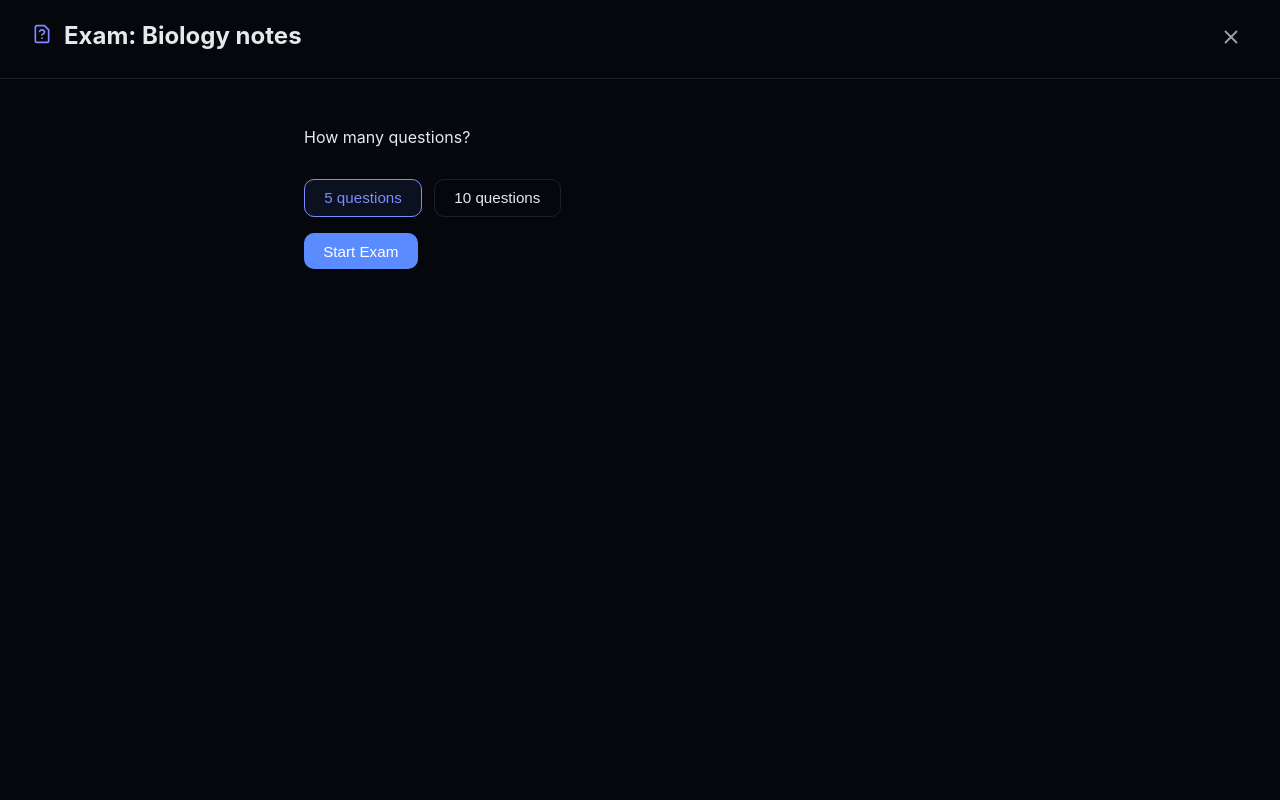
Scenario: ExamModal › renders MCQ options for every question once generated
Step 1. Click the button "Start Exam" → (361, 251), box [304, 233, 418, 269]
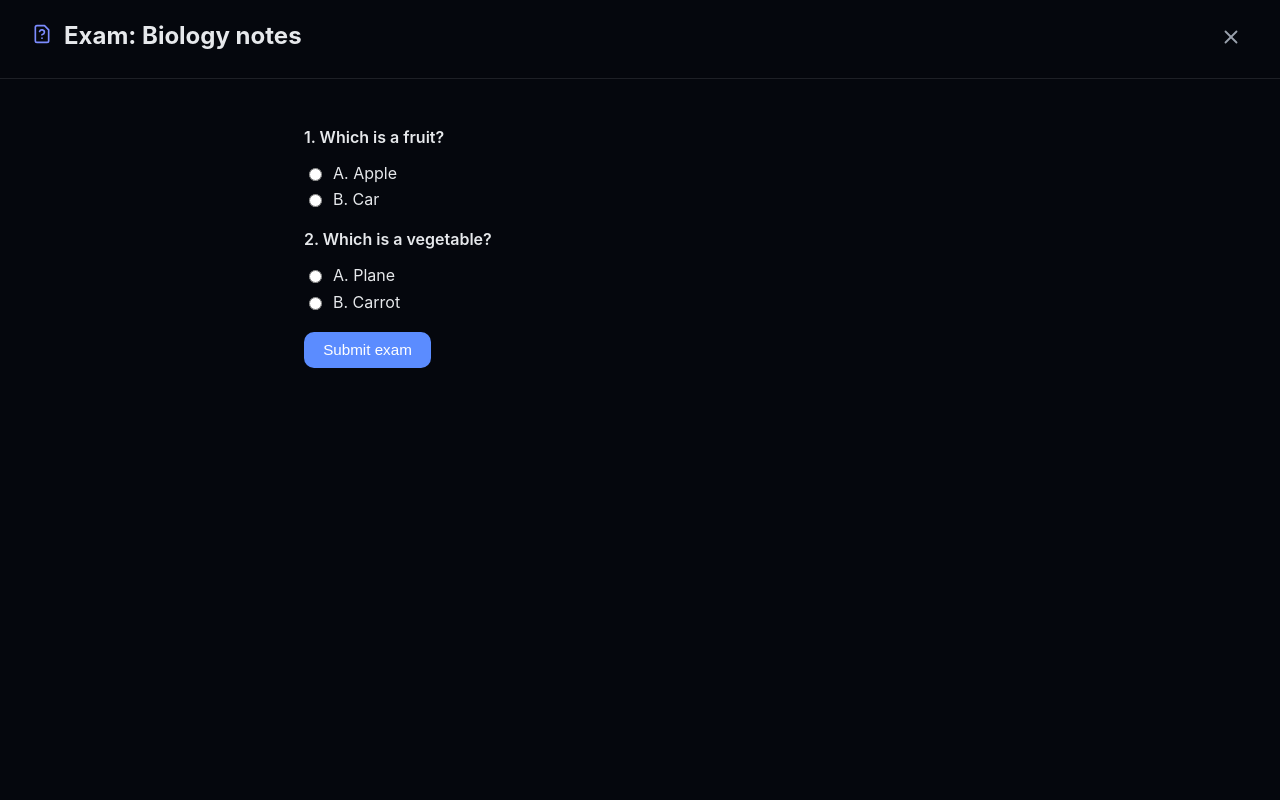
Expected: the text "1. Which is a fruit?" is shown, [304, 127, 444, 147]
Expected: the number of radio buttons is 4, [309, 168, 322, 181]; [309, 194, 322, 207]; [309, 270, 322, 283]; [309, 297, 322, 310]
